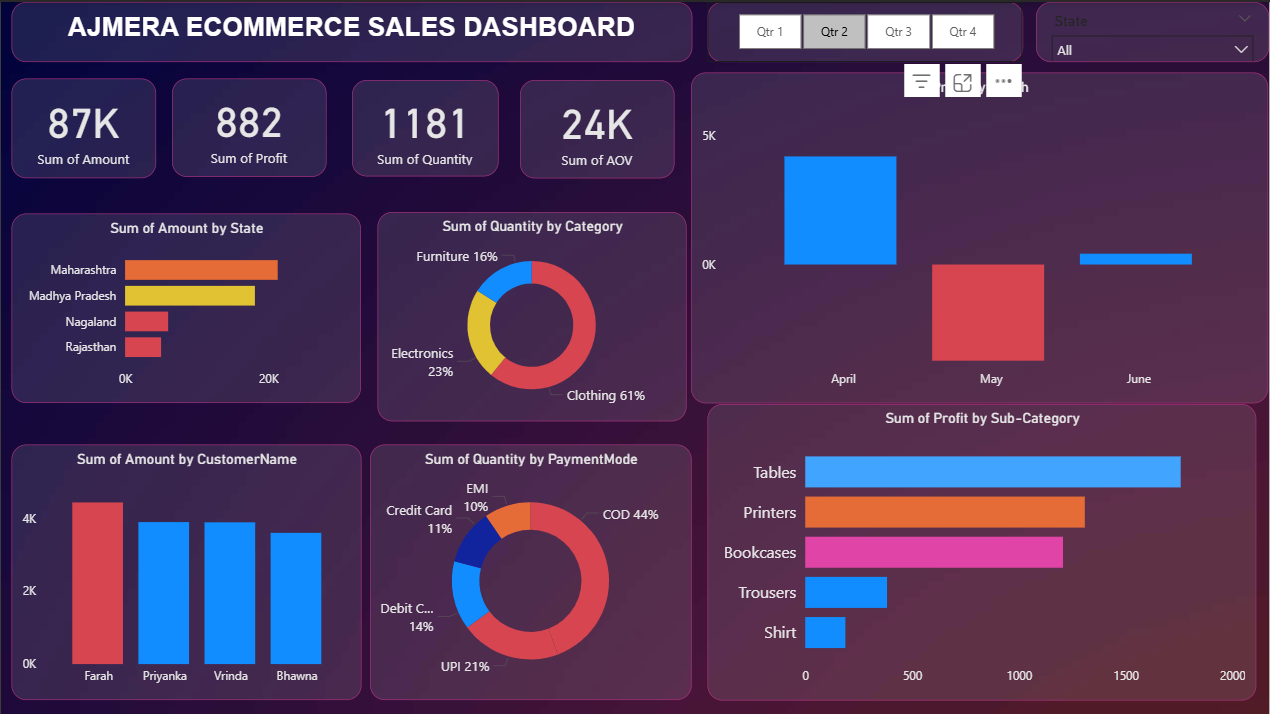

Layout of this report page (visuals, bound fields, positions):
{"tool":"powerbi","page":{"name":"Page 1","canvas":[1280,720],"ordinal":0},"visuals":[{"type":"textbox","box":[10.1,0,687,60.5],"z":0},{"type":"columnChart","title":"Profit by Month","fields":{"Category":["Orders.Order Date.Variation.Date Hierarchy.Month"],"Y":["Details.Profit"]},"box":[697.1,70.6,582.9,334.3],"z":1000},{"type":"barChart","fields":{"Category":["Details.Sub-Category"],"Y":["Details.Profit"]},"box":[712.9,405.4,554.2,299.1],"z":2000},{"type":"donutChart","fields":{"Y":["Details.Quantity"],"Category":["Details.PaymentMode"]},"box":[372.8,446.5,324.6,258],"z":3000},{"type":"donutChart","fields":{"Category":["Details.Category"],"Y":["Details.Quantity"]},"box":[379.8,212.6,311.8,211.2],"z":4000},{"type":"card","fields":{"Values":["Details.Amount"]},"box":[9.9,76.5,146,100.6],"z":5000},{"type":"card","fields":{"Values":["Details.Quantity"]},"box":[354.4,79,147.8,97.4],"z":6000},{"type":"card","fields":{"Values":["Details.Profit"]},"box":[173,77.3,156.2,99.1],"z":7000},{"type":"card","fields":{"Values":["Details.AOV"]},"box":[524.1,79,156.2,99.1],"z":8000},{"type":"barChart","fields":{"Category":["Orders.State"],"Y":["Details.Amount"]},"box":[10.1,213.3,352.8,191.5],"z":9000},{"type":"columnChart","fields":{"Category":["Orders.CustomerName"],"Y":["Details.Amount"]},"box":[10,446,353,258],"z":10000},{"type":"slicer","fields":{"Values":["Orders.Order Date.Variation.Date Hierarchy.Quarter"]},"box":[712.9,0,318.9,60.9],"z":11000},{"type":"slicer","fields":{"Values":["Orders.State"]},"box":[1044.6,0,235.3,60.9],"z":12000}]}

Visuals, with their boxes in screenshot pixels (x1, y1, x2, y2), scaled from the page's 1280x720 canvas onto the 1270x714 screenshot:
textbox: (x1=10, y1=0, x2=692, y2=60)
"Profit by Month" columnChart: (x1=692, y1=70, x2=1269, y2=402)
barChart - Details.Sub-Category x Details.Profit: (x1=707, y1=402, x2=1257, y2=699)
donutChart - Details.Quantity x Details.PaymentMode: (x1=370, y1=443, x2=692, y2=699)
donutChart - Details.Category x Details.Quantity: (x1=377, y1=211, x2=686, y2=420)
card - Details.Amount: (x1=10, y1=76, x2=155, y2=176)
card - Details.Quantity: (x1=352, y1=78, x2=498, y2=175)
card - Details.Profit: (x1=172, y1=77, x2=327, y2=175)
card - Details.AOV: (x1=520, y1=78, x2=675, y2=177)
barChart - Orders.State x Details.Amount: (x1=10, y1=212, x2=360, y2=401)
columnChart - Orders.CustomerName x Details.Amount: (x1=10, y1=442, x2=360, y2=698)
slicer - Orders.Order Date.Variation.Date Hierarchy.Quarter: (x1=707, y1=0, x2=1024, y2=60)
slicer - Orders.State: (x1=1036, y1=0, x2=1269, y2=60)
